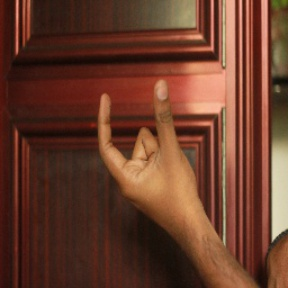U: (92, 77, 195, 203)
